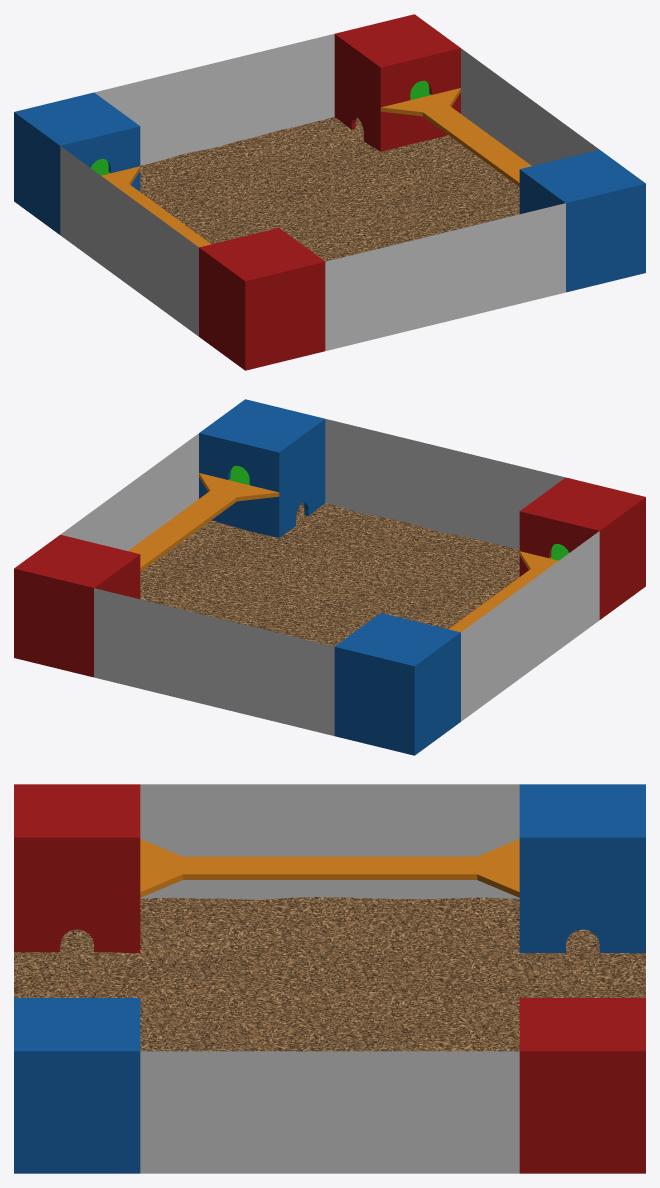
Rendered from Cage_KD.fbx.
The picture shows the model from 3 angles, top to bottom: view 1: azimuth 30°, elevation 25°; view 2: azimuth 150°, elevation 25°; view 3: azimuth 270°, elevation 25°; orthographic projection. The views are drawn at different scales.
Visible parts, largest first — view 1: Level:Cage_Floor_rough, Level:Towers_2, Level:Towers_1, Level:Cage_Wall_1, Level:Cage_Wall_3, Level:Cage_Wall_4, Level:Cage_Wall_2; view 2: Level:Cage_Floor_rough, Level:Towers_2, Level:Towers_1, Level:Cage_Wall_3, Level:Cage_Wall_1, Level:Cage_Wall_4, Level:Cage_Wall_2; view 3: Level:Cage_Floor_rough, Level:Towers_1, Level:Cage_Wall_2, Level:Towers_2, Level:Cage_Wall_4.
Boxes of the visible parts, x1,y1,x2,y2 form: Level:Cage_Floor_rough: [140, 117, 519, 261]; Level:Towers_2: [334, 14, 645, 292]; Level:Towers_1: [14, 92, 325, 370]; Level:Cage_Wall_1: [325, 203, 565, 350]; Level:Cage_Wall_3: [94, 34, 334, 165]; Level:Cage_Wall_4: [60, 146, 198, 336]; Level:Cage_Wall_2: [461, 48, 598, 165]; Level:Cage_Floor_rough: [140, 502, 519, 646]; Level:Towers_2: [14, 399, 325, 677]; Level:Towers_1: [334, 477, 645, 755]; Level:Cage_Wall_3: [94, 588, 334, 735]; Level:Cage_Wall_1: [325, 419, 565, 550]; Level:Cage_Wall_4: [461, 531, 599, 721]; Level:Cage_Wall_2: [61, 433, 198, 550]; Level:Cage_Floor_rough: [14, 897, 645, 1166]; Level:Towers_1: [14, 784, 645, 953]; Level:Cage_Wall_2: [140, 1051, 519, 1173]; Level:Towers_2: [14, 998, 645, 1173]; Level:Cage_Wall_4: [140, 784, 519, 899].
Size of the model in its own units: 300 by 64 by 300.
